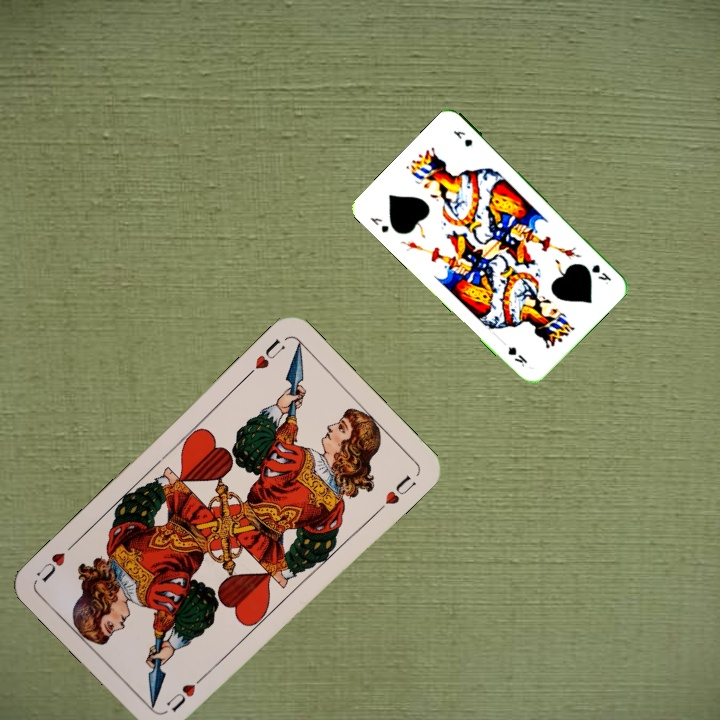GK: (587, 260, 614, 287), (366, 213, 391, 235)
HU: (162, 669, 209, 715), (242, 334, 288, 380)
